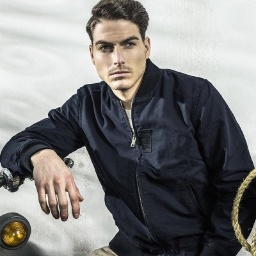face: (85, 1, 153, 91)
